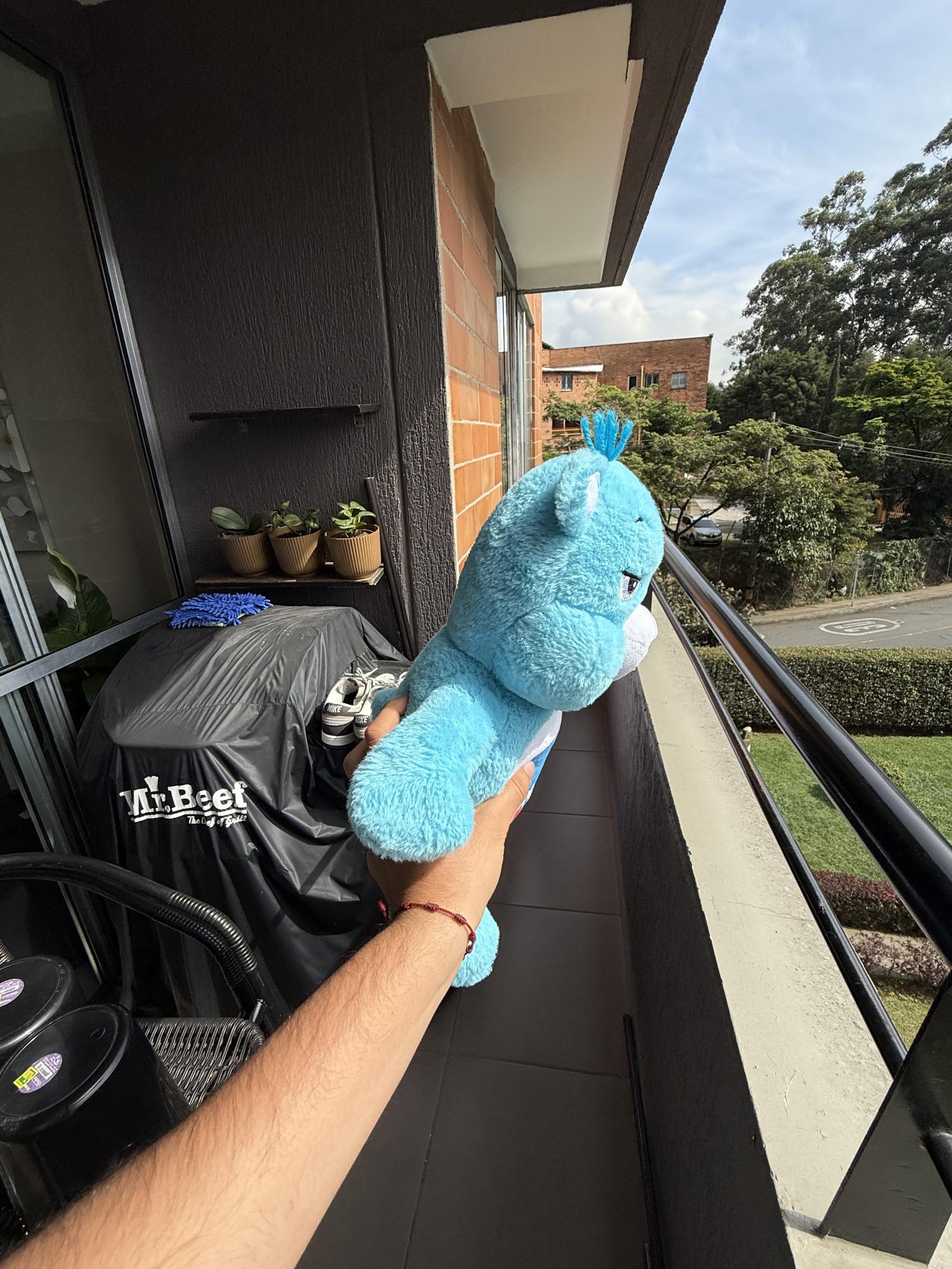peluche_Juan Jose: (419, 452, 694, 766)
